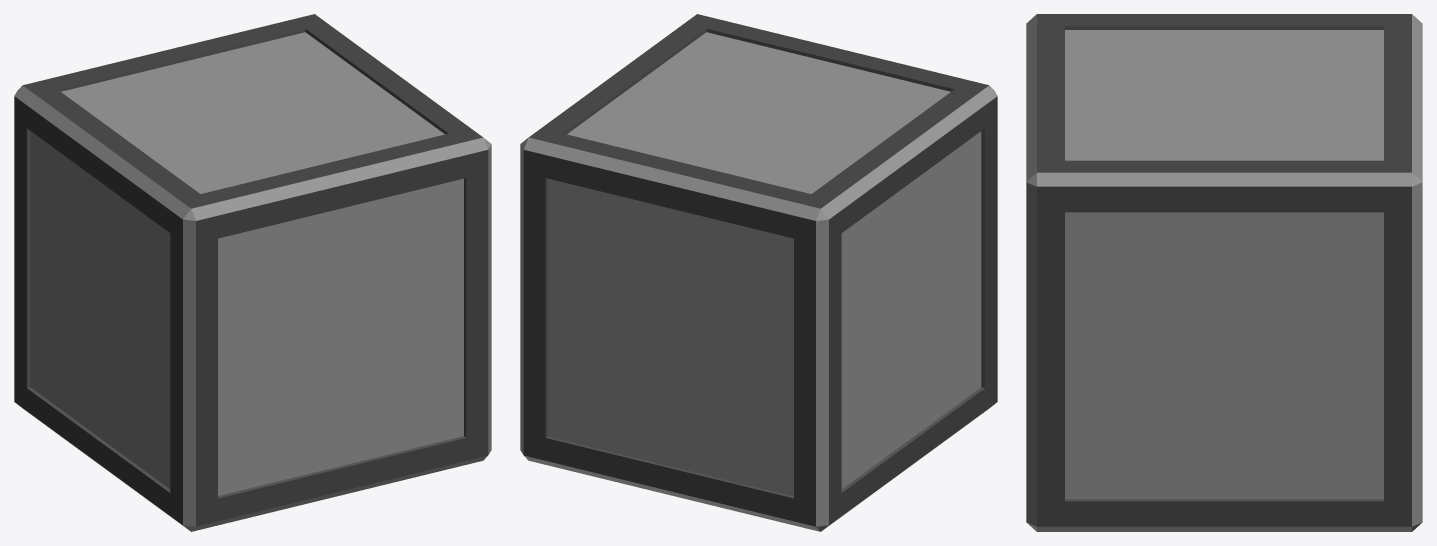
Rendered from Block.obj.
3 views of the same model, side by side, from view 1: azimuth 30°, elevation 25°; view 2: azimuth 150°, elevation 25°; view 3: azimuth 270°, elevation 25° (orthographic). The views are drawn at different scales.
Parts seen in each view (by area): view 1: Cube; view 2: Cube; view 3: Cube.
Part boxes in pixels (bbox=[...]): Cube: bbox=[14, 14, 491, 531]; Cube: bbox=[520, 14, 997, 531]; Cube: bbox=[1026, 14, 1422, 531].
Bounding box in the file's own units: 2 × 2 × 2.
1 material, 1 textured.
